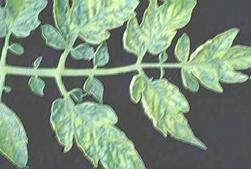Tomato leaf yellow virus: (44, 95, 159, 169), (127, 72, 213, 148), (46, 0, 158, 55), (177, 24, 251, 95), (122, 0, 205, 58), (0, 93, 31, 166), (0, 0, 48, 44)
